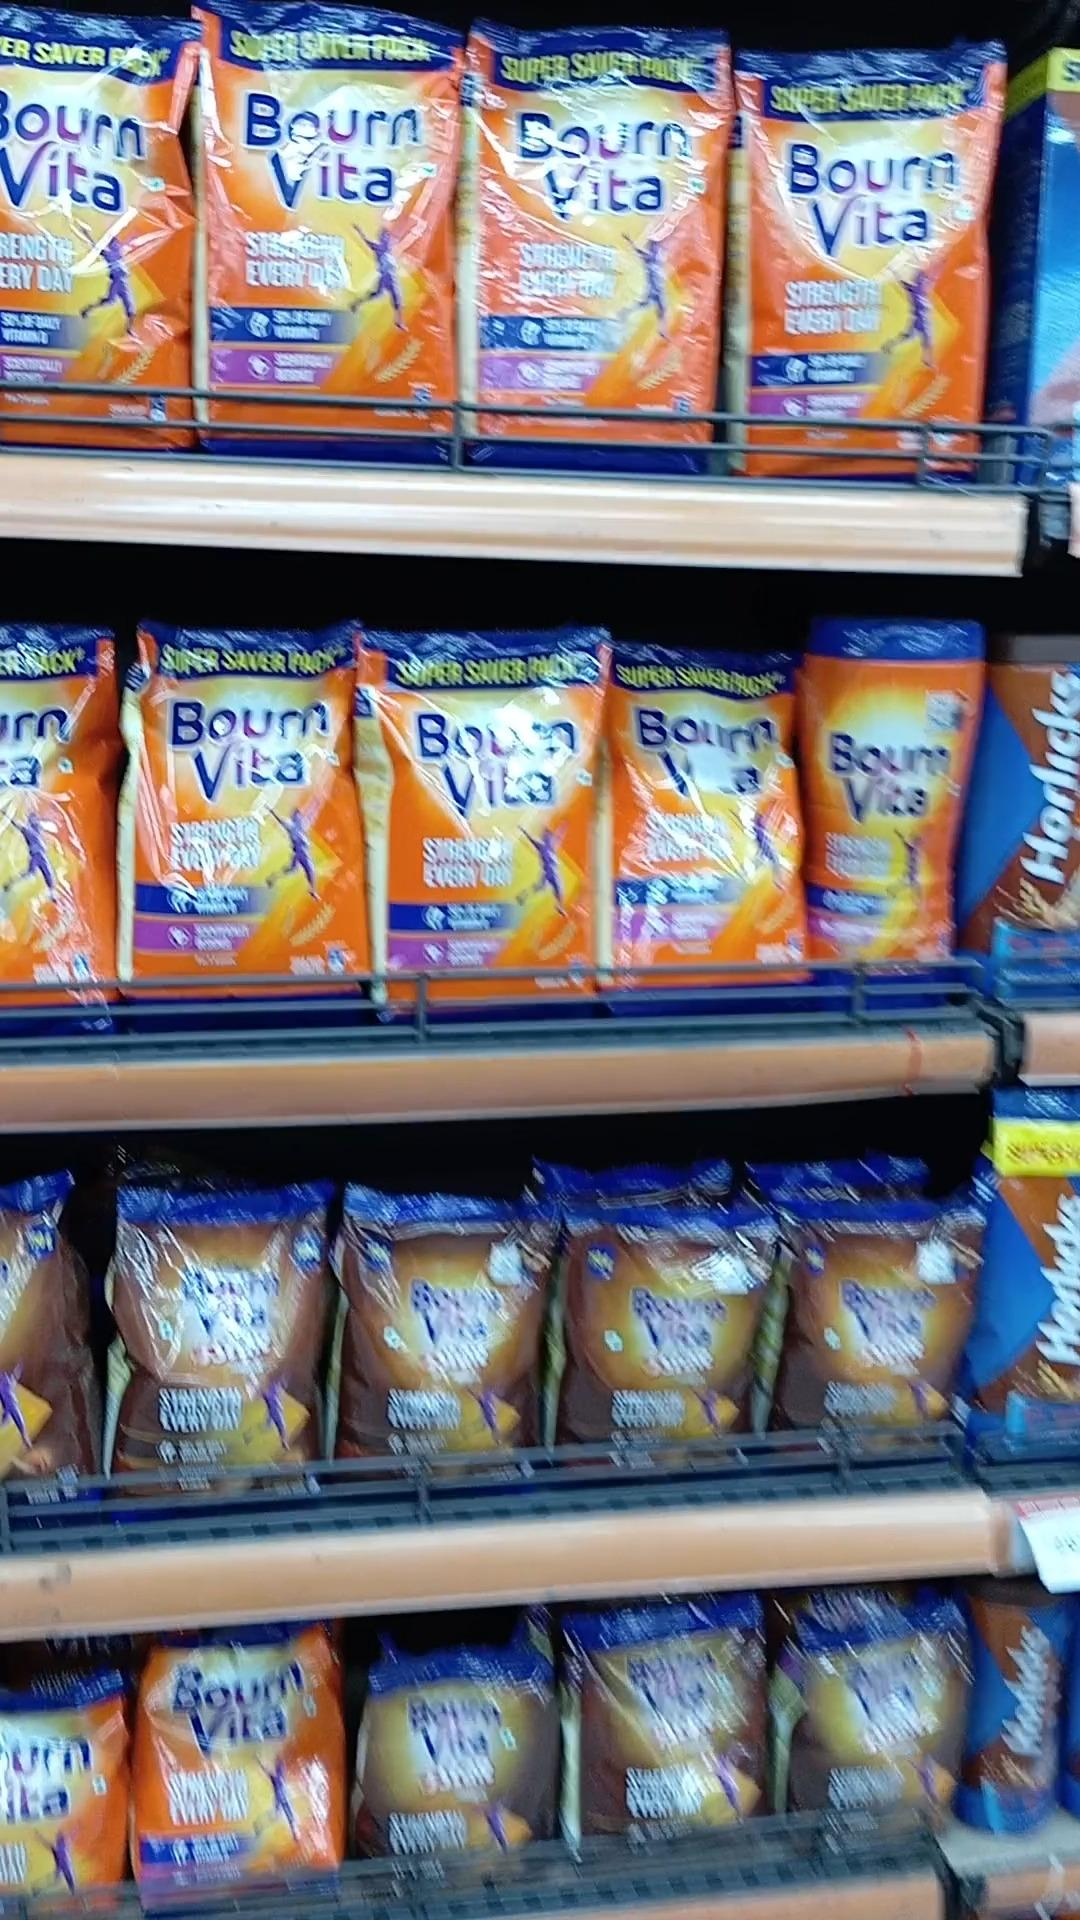BOURN_VITA_1_KG_JAR: (815, 622, 963, 1031)
BOURN_VITA_1_KG_POUCH: (191, 1, 460, 458), (480, 0, 731, 484), (740, 44, 984, 487), (120, 615, 351, 1038), (371, 646, 613, 1043), (612, 647, 804, 1031), (1, 0, 169, 433)
BOURN_VITA_500_G_POUCH: (135, 1634, 335, 1920), (0, 1660, 117, 1920)
BOURN_VITA_FIVE_STAR_MAGIC_500_G_POUCH: (575, 1604, 762, 1861), (787, 1598, 955, 1867), (361, 1676, 559, 1858)
BOURN_VITA_FIVE_STAR_MAGIC_750_G_POUCH: (113, 1176, 319, 1530), (326, 1191, 530, 1501), (562, 1201, 761, 1480), (794, 1203, 969, 1464)
HORLICK_CHOCOLATE_1_KG_JAR: (969, 617, 1080, 1005)
HORLICK_CHOCOLATE_500_G_JAR: (971, 1581, 1065, 1849)
